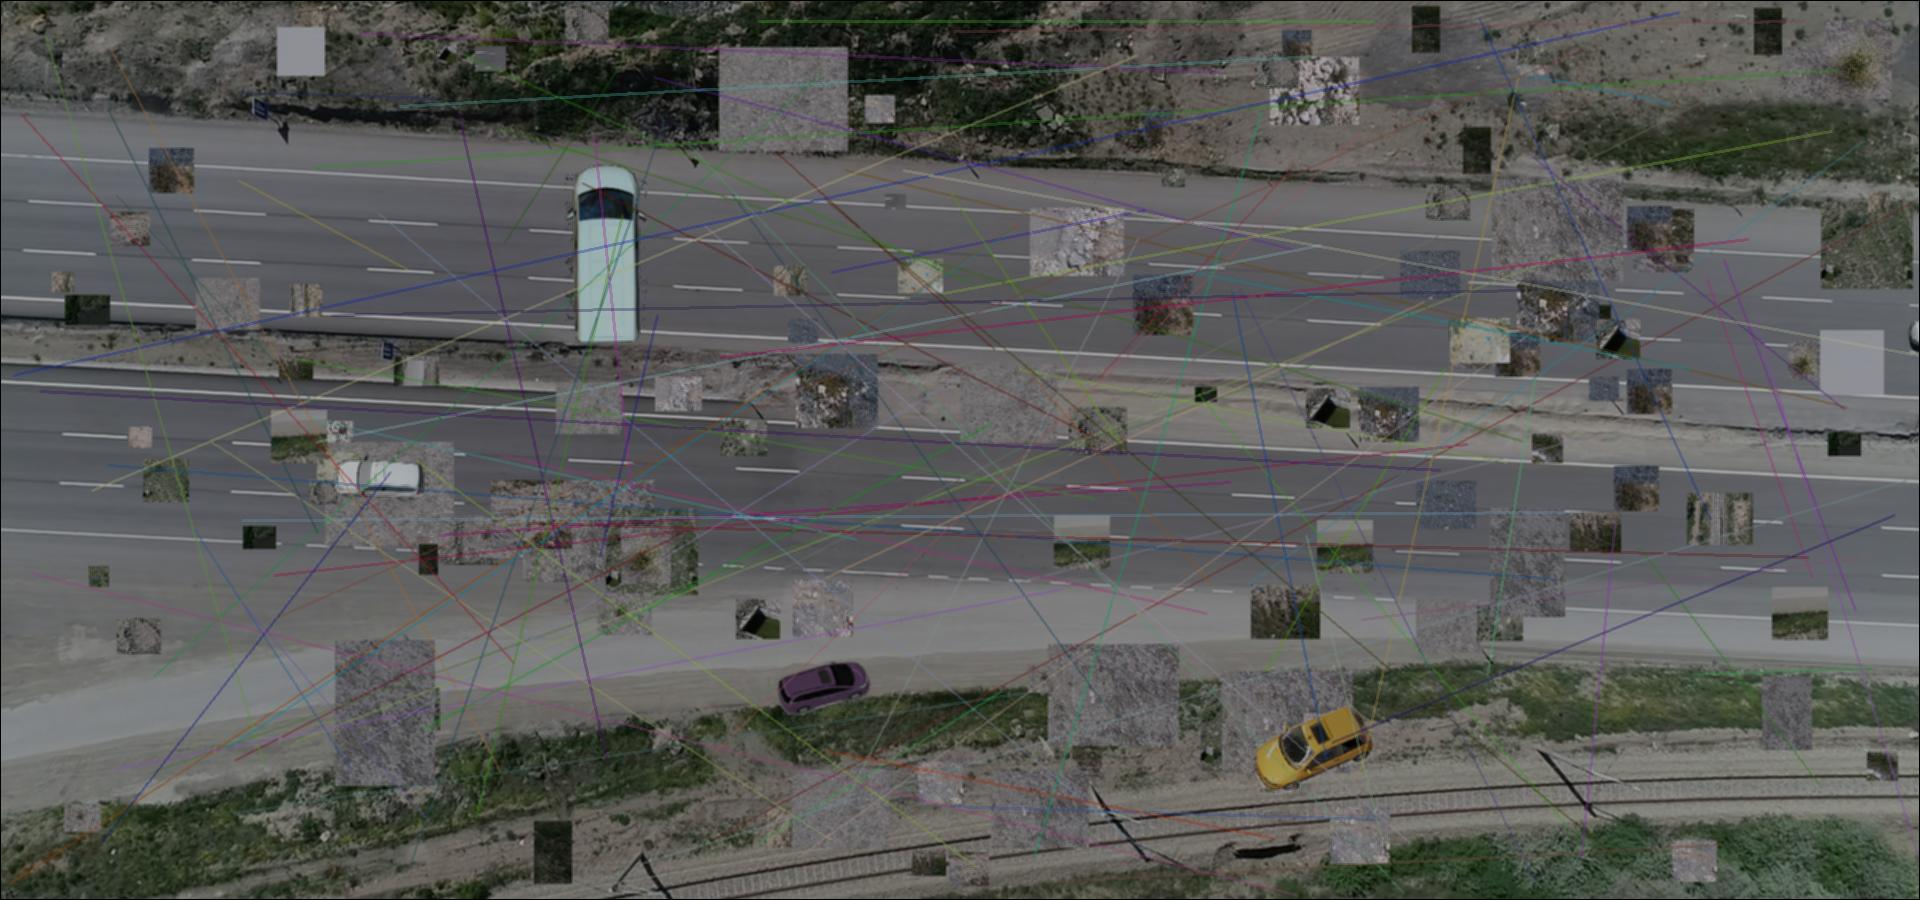arac: (564, 162, 647, 345), (1256, 700, 1378, 796), (774, 662, 873, 715), (333, 456, 426, 507)
